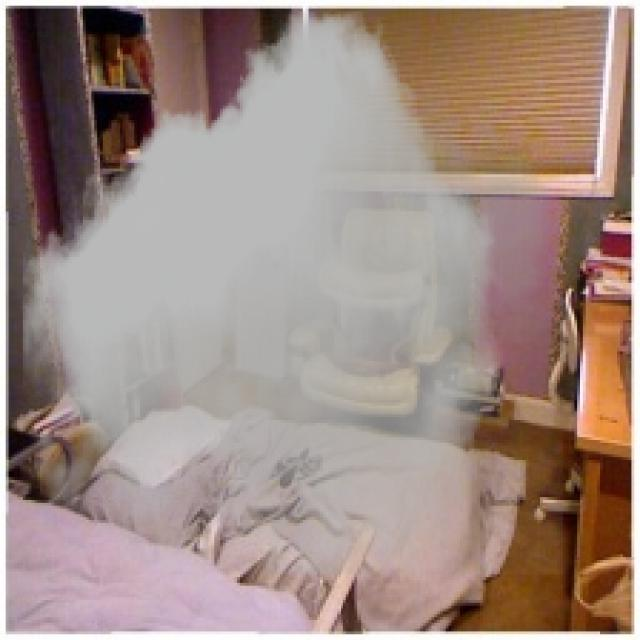smoke: (14, 12, 563, 574)
